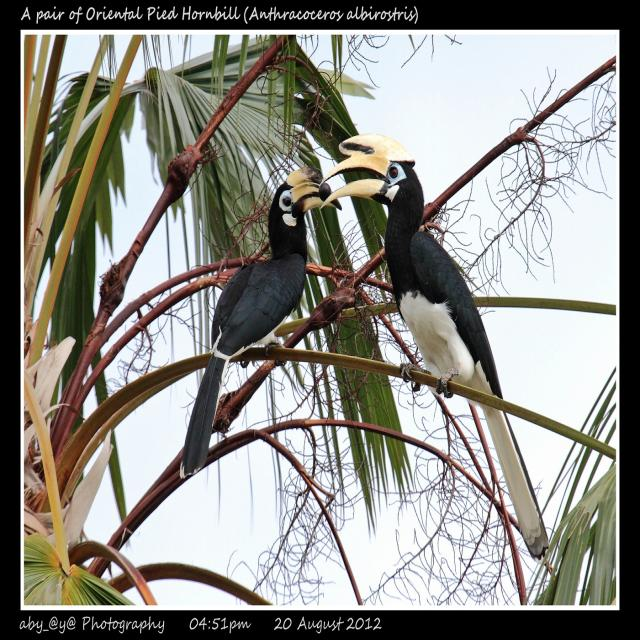Hornbill: (327, 138, 542, 550)
